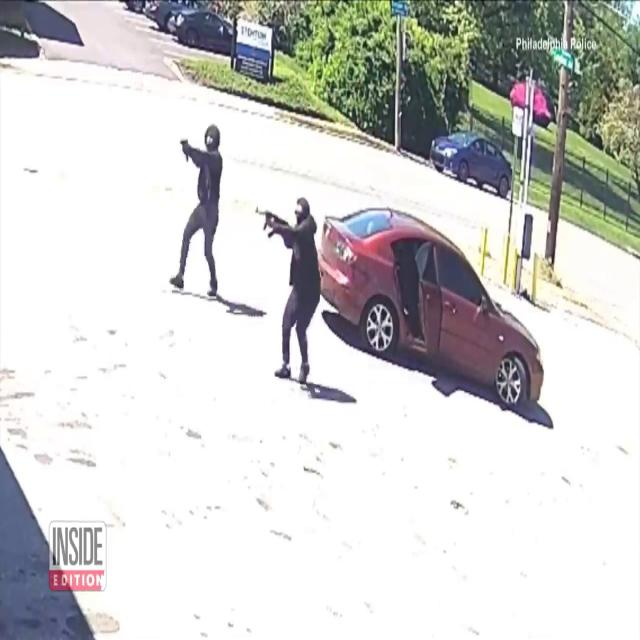penembakan: (254, 188, 322, 384), (169, 117, 226, 307)
